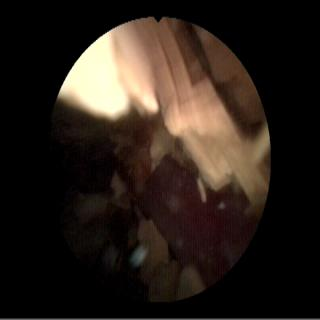stone: (62, 21, 267, 215), (135, 212, 206, 301), (75, 194, 111, 223), (111, 171, 125, 196)
